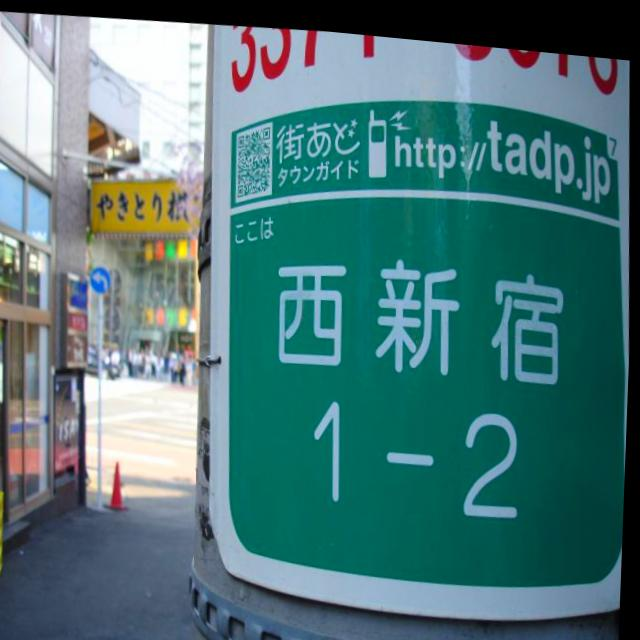qrcode: (237, 120, 274, 195)
